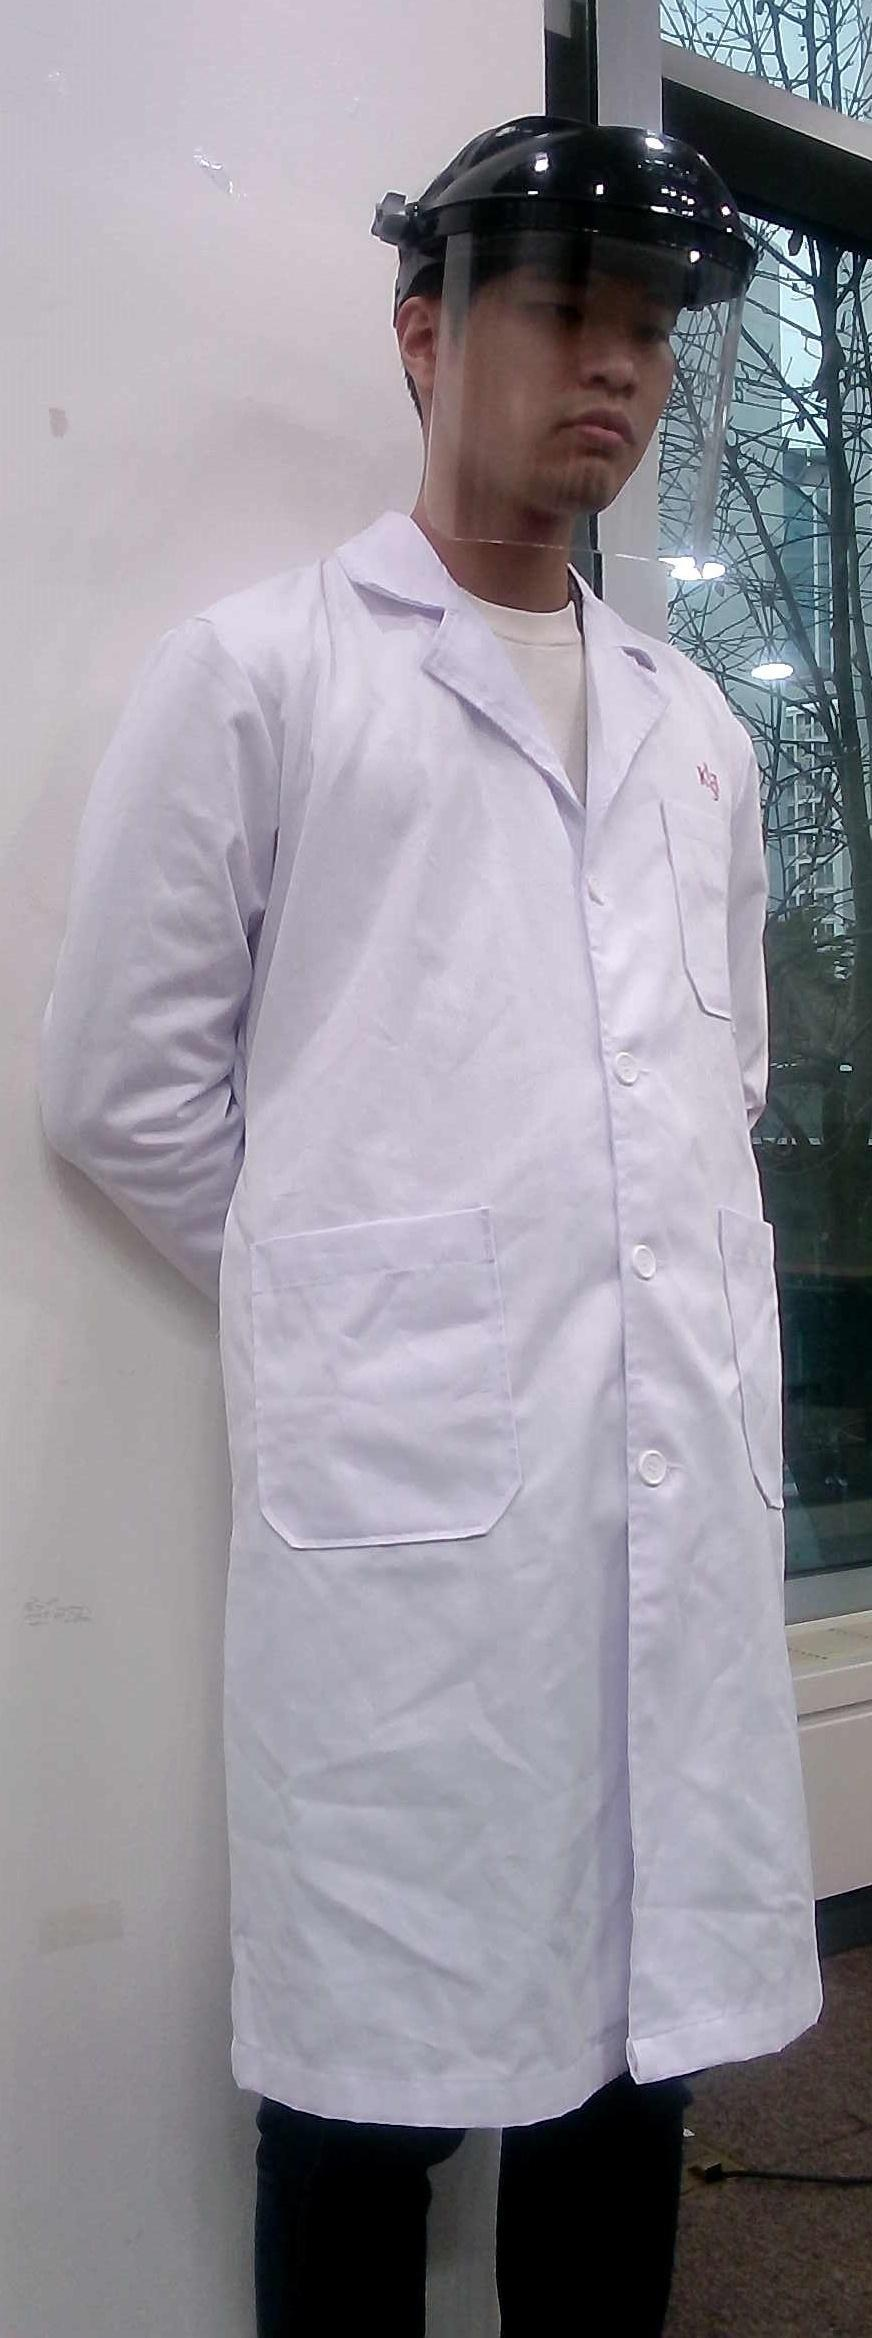lab_coat: (161, 616, 869, 2098)
